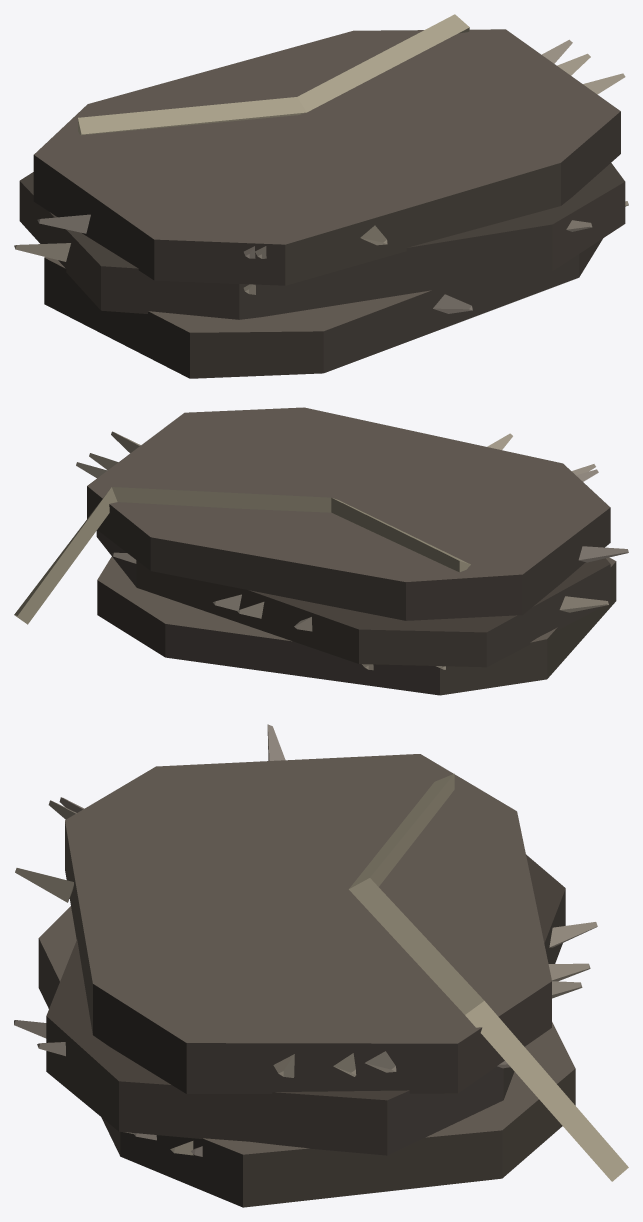
File: storage_fur_dress.glb
The picture shows the model from 3 angles, top to bottom: view 1: azimuth 30°, elevation 25°; view 2: azimuth 150°, elevation 25°; view 3: azimuth 270°, elevation 25°; orthographic projection. The views are drawn at different scales.
Parts seen in each view (by area): view 1: storage_fur_dress; view 2: storage_fur_dress; view 3: storage_fur_dress.
Boxes of the visible parts, left/top/right/bottom form: storage_fur_dress: left=14, top=14, right=628, bottom=378; storage_fur_dress: left=14, top=407, right=628, bottom=695; storage_fur_dress: left=14, top=724, right=628, bottom=1207.
Size of the model in its own units: 1.44 by 0.3417 by 1.08.
